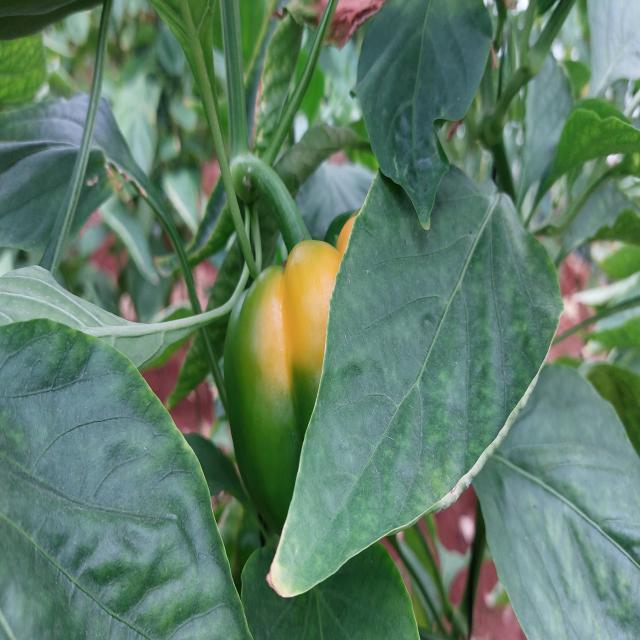GreenishYellow--Can-be-Harvested: (222, 241, 462, 609)
